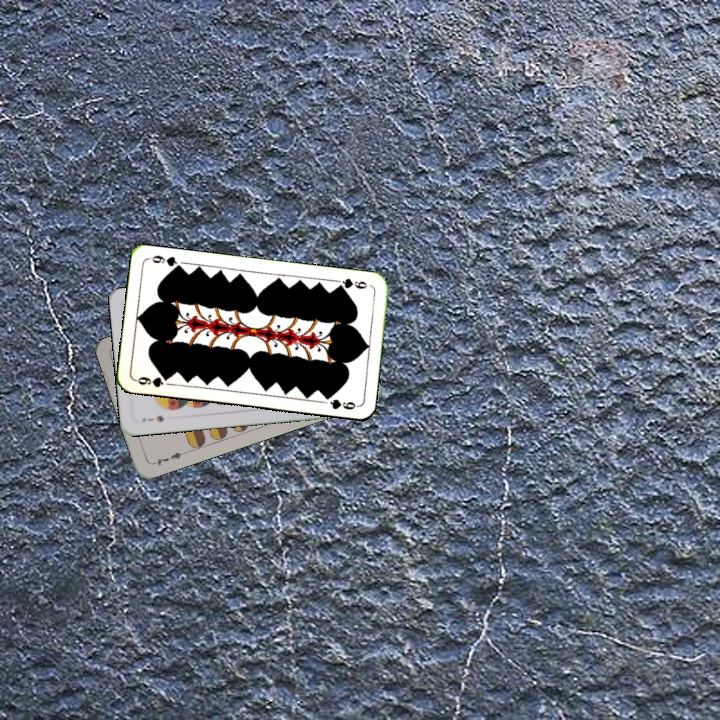E7: (148, 448, 188, 468)
G9: (131, 372, 172, 390), (332, 274, 373, 291)
S7: (138, 411, 166, 425)
